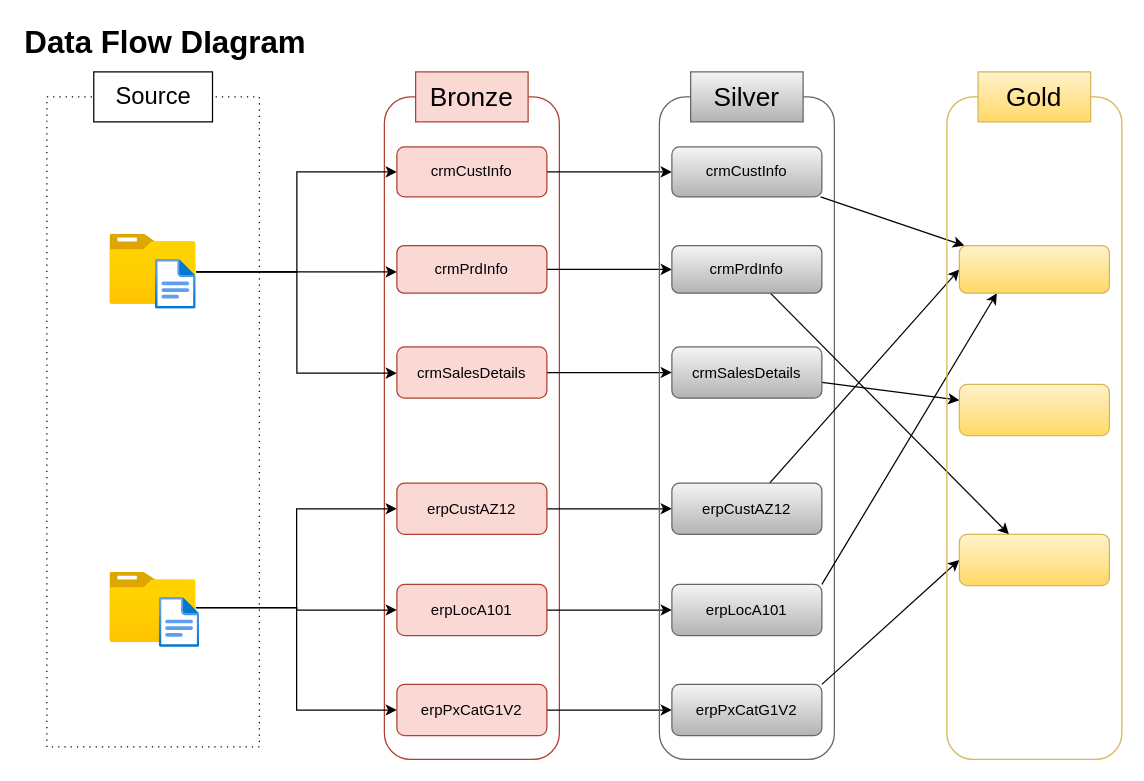
Image size: 1144x781. Some labels were removed from this diagram. The shapes that lost their labels are listed below. From the top down, each one's box as (x1, y1, x2, y2) in pixels, then its label:
(109, 234, 196, 304): CRM
(958, 244, 1109, 293): gold.dimCustomers
(958, 383, 1109, 436): gold.factSales
(958, 533, 1109, 586): gold.dimProducts
(109, 572, 196, 642): ERP
